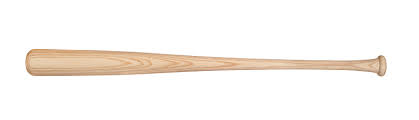bat: (24, 47, 389, 78)
